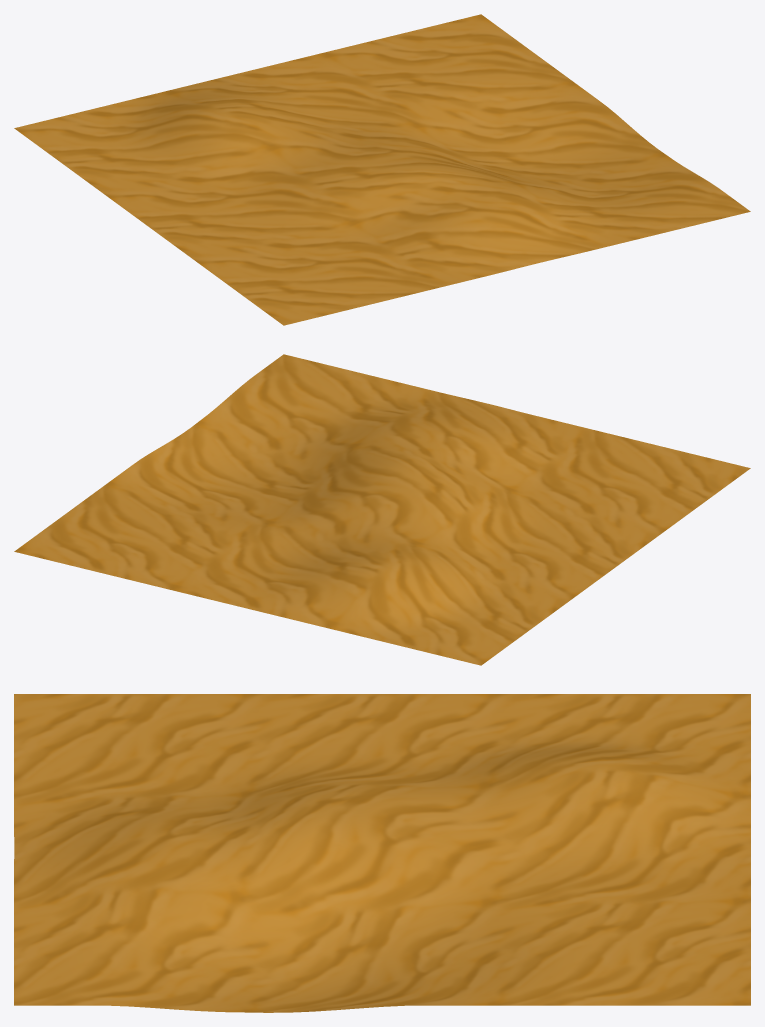
The model's file is Sandfloor_B.fbx.
3 renders of one model, top to bottom at view 1: azimuth 30°, elevation 25°; view 2: azimuth 150°, elevation 25°; view 3: azimuth 270°, elevation 25°, orthographic. The views are drawn at different scales.
Visible parts, largest first — view 1: Sandfloor_B; view 2: Sandfloor_B; view 3: Sandfloor_B.
Boxes of the visible parts, x1,y1,x2,y2 form: Sandfloor_B: [14, 14, 750, 325]; Sandfloor_B: [14, 354, 750, 665]; Sandfloor_B: [14, 694, 750, 1012].
Bounding box in the file's own units: 16 × 1.17 × 16.
